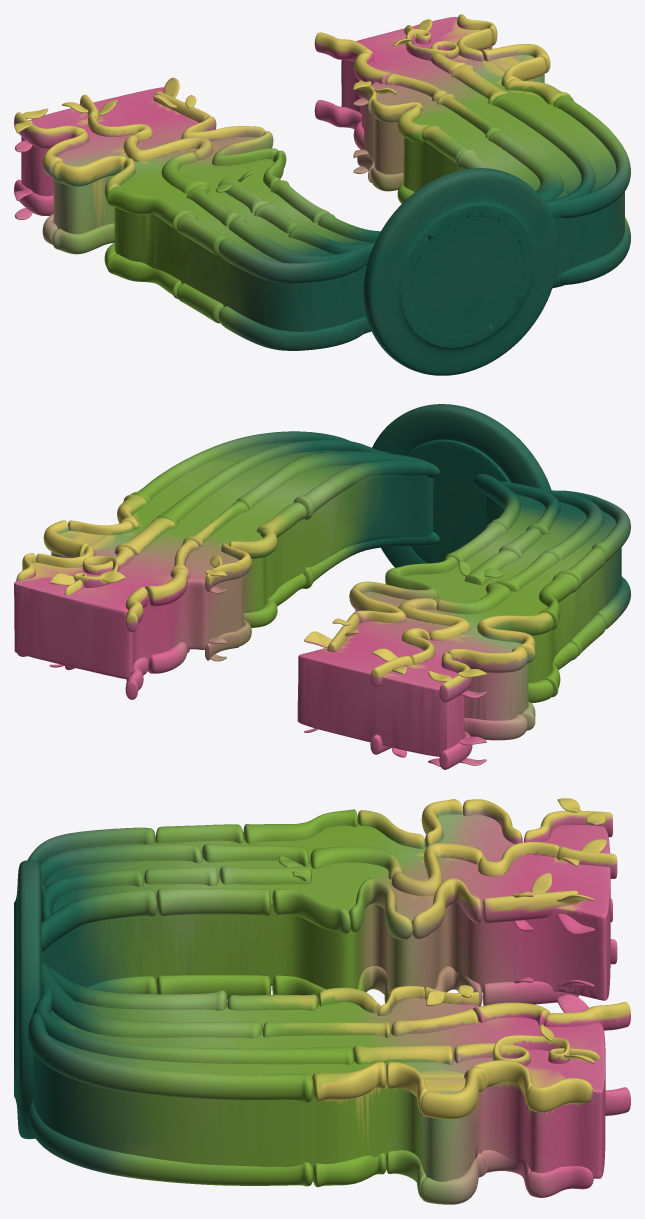
The picture shows the model from 3 angles, top to bottom: view 1: azimuth 30°, elevation 25°; view 2: azimuth 150°, elevation 25°; view 3: azimuth 270°, elevation 25°; orthographic projection. The views are drawn at different scales.
Parts seen in each view (by area): view 1: LOD 2_11715679123741618527_7772d8143698c4b469892684d4d44774; view 2: LOD 2_11715679123741618527_7772d8143698c4b469892684d4d44774; view 3: LOD 2_11715679123741618527_7772d8143698c4b469892684d4d44774.
Part boxes in pixels (x1,y1,x2,y2): LOD 2_11715679123741618527_7772d8143698c4b469892684d4d44774: [14, 14, 630, 375]; LOD 2_11715679123741618527_7772d8143698c4b469892684d4d44774: [14, 404, 630, 769]; LOD 2_11715679123741618527_7772d8143698c4b469892684d4d44774: [14, 798, 630, 1204].
Size of the model in its own units: 14.65 by 5.71 by 12.63.
